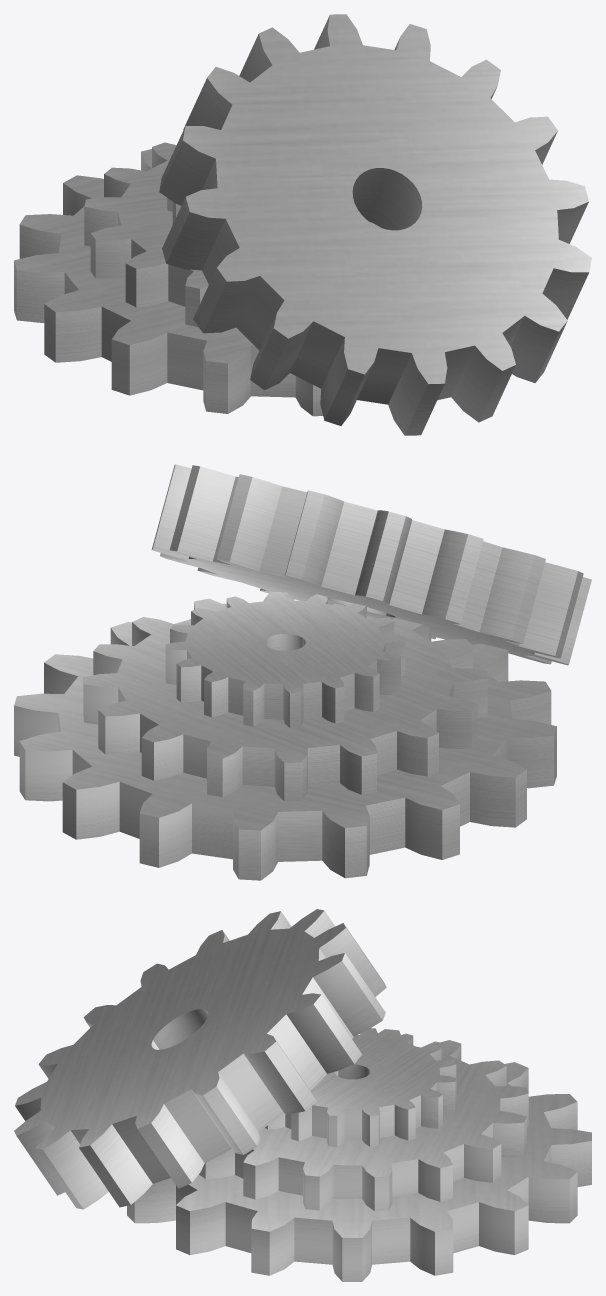
Rendered from Avoid_Gears.fbx.
The picture shows the model from 3 angles, top to bottom: view 1: azimuth 30°, elevation 25°; view 2: azimuth 150°, elevation 25°; view 3: azimuth 270°, elevation 25°; orthographic projection. The views are drawn at different scales.
Visible parts, largest first — view 1: Avoid_Gears; view 2: Avoid_Gears; view 3: Avoid_Gears.
Boxes of the visible parts, x1,y1,x2,y2 form: Avoid_Gears: (14, 14, 591, 435); Avoid_Gears: (14, 464, 591, 880); Avoid_Gears: (14, 909, 591, 1281).
Bounding box in the file's own units: 20.25 × 11.47 × 24.41.
1 material, 1 textured.
